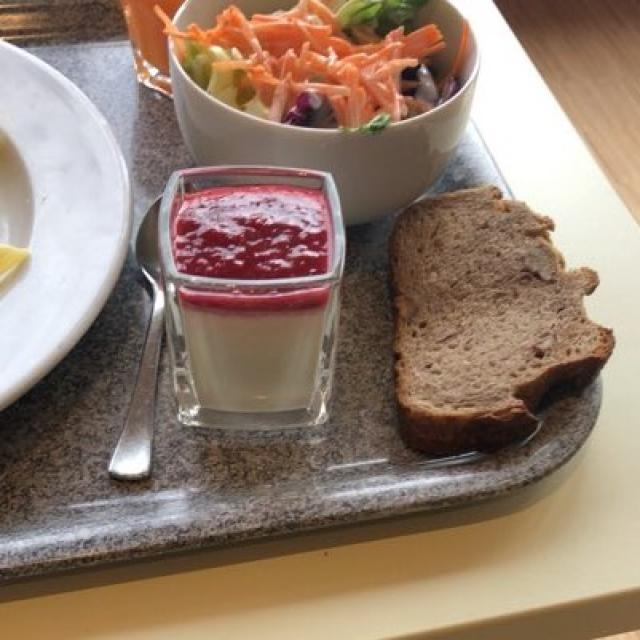bread: (396, 195, 610, 434)
carrot: (196, 1, 426, 134)
jam: (164, 190, 345, 322)
panna-cotta: (161, 190, 319, 424)
salad: (194, 2, 457, 128)
